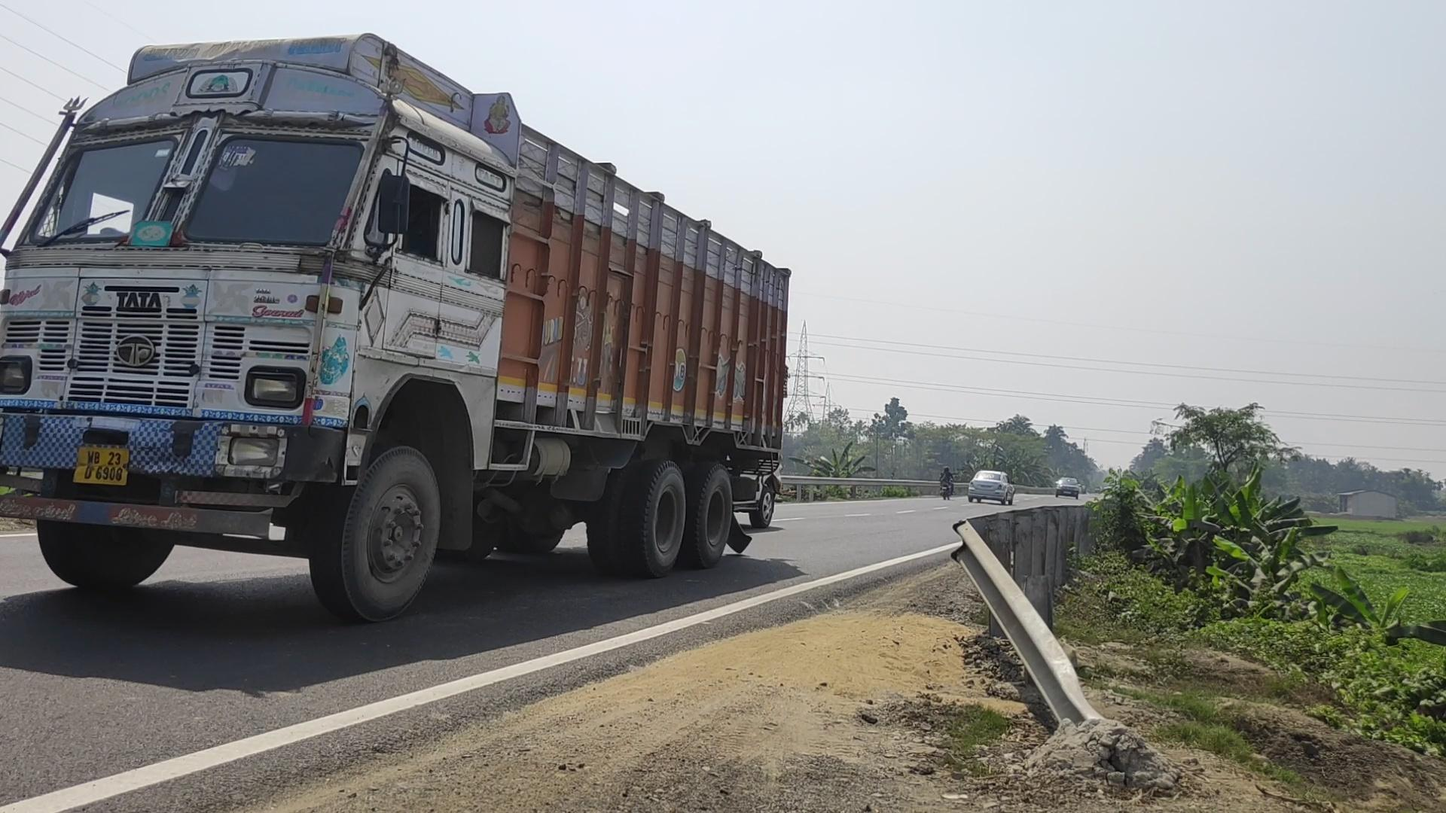bike: (938, 465, 955, 500)
car: (967, 470, 1015, 506), (1055, 477, 1080, 501)
truck: (1, 32, 791, 623)
